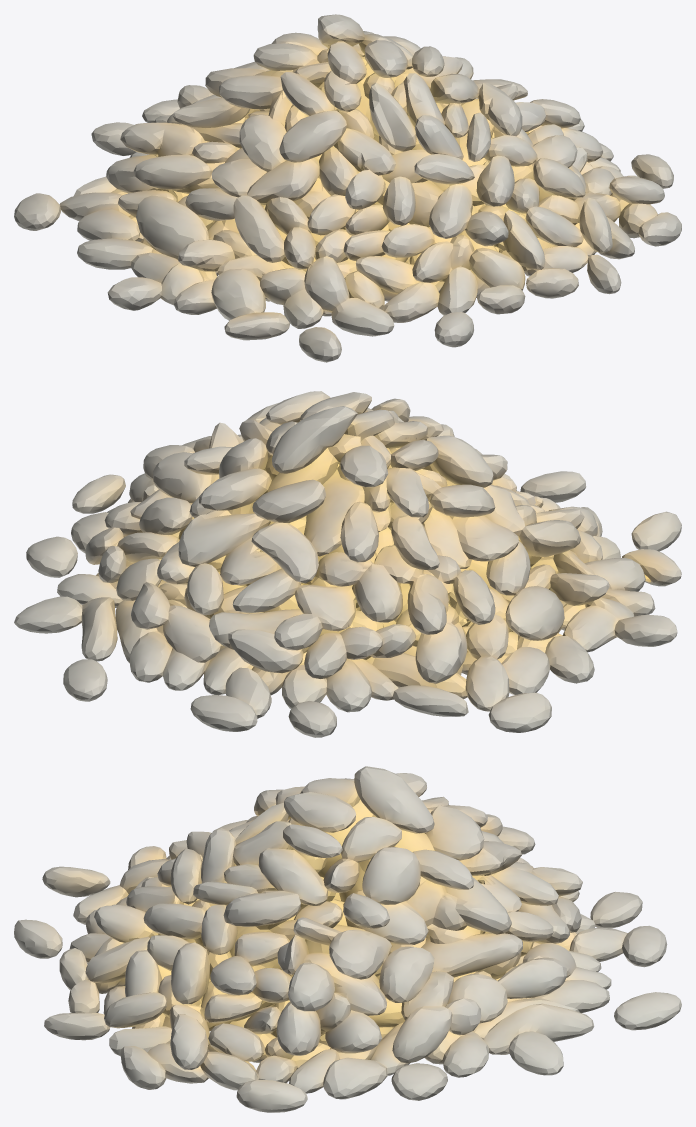
File: lod_basic_pbr.fbx
3 views of the same model, one above another, from view 1: azimuth 30°, elevation 25°; view 2: azimuth 150°, elevation 25°; view 3: azimuth 270°, elevation 25° (orthographic). The views are drawn at different scales.
Visible parts, largest first — view 1: model_LOD0; view 2: model_LOD0; view 3: model_LOD0.
Part boxes in pixels (left/top/right/bottom): model_LOD0: left=14, top=14, right=681, bottom=362; model_LOD0: left=14, top=391, right=681, bottom=737; model_LOD0: left=14, top=766, right=681, bottom=1112.
Size of what is drawn, in the model's own units: 189 by 64.16 by 189.
1 material, 1 textured.
